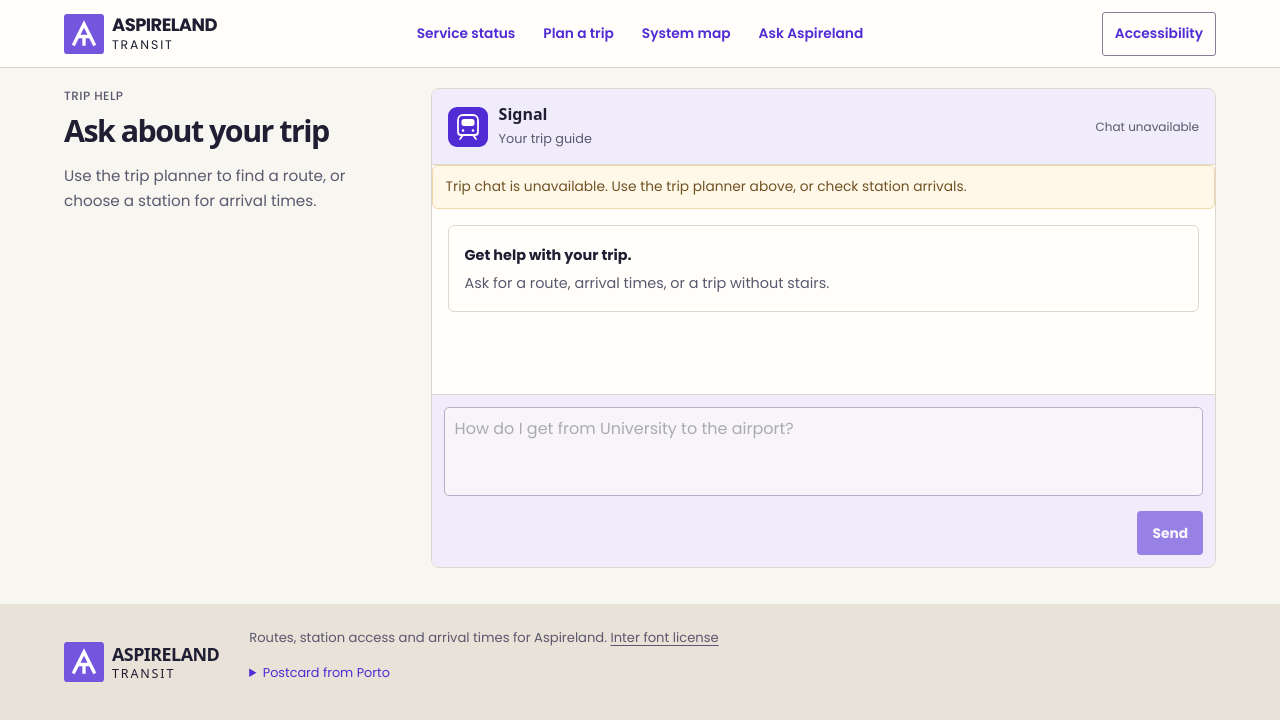
Test case: tucks the NDC Porto greeting into a footer postcard
The width and height of the screenshot is (1280, 720).
(page scrolled)
Click the heading "Postcard from Porto" at (326, 673), box [263, 664, 390, 681]
(page scrolled)
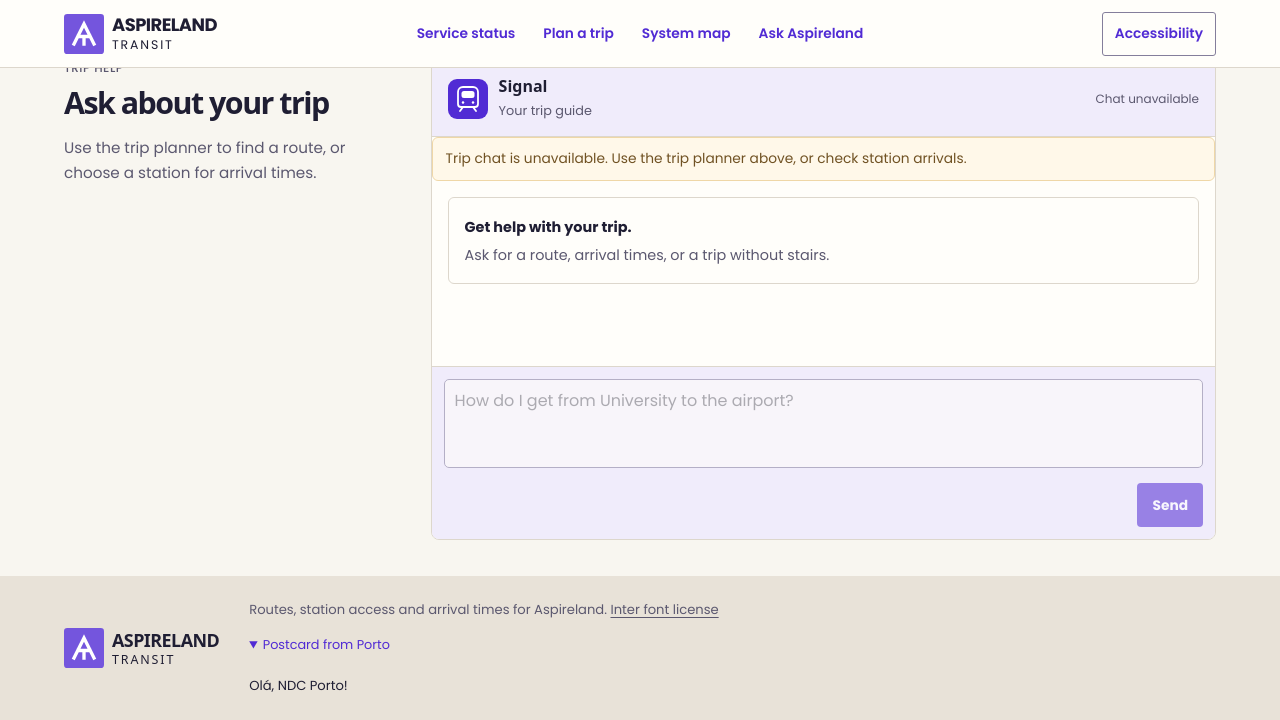
Result: the text "Postcard from Porto" has attribute open at [249, 636, 390, 695]
